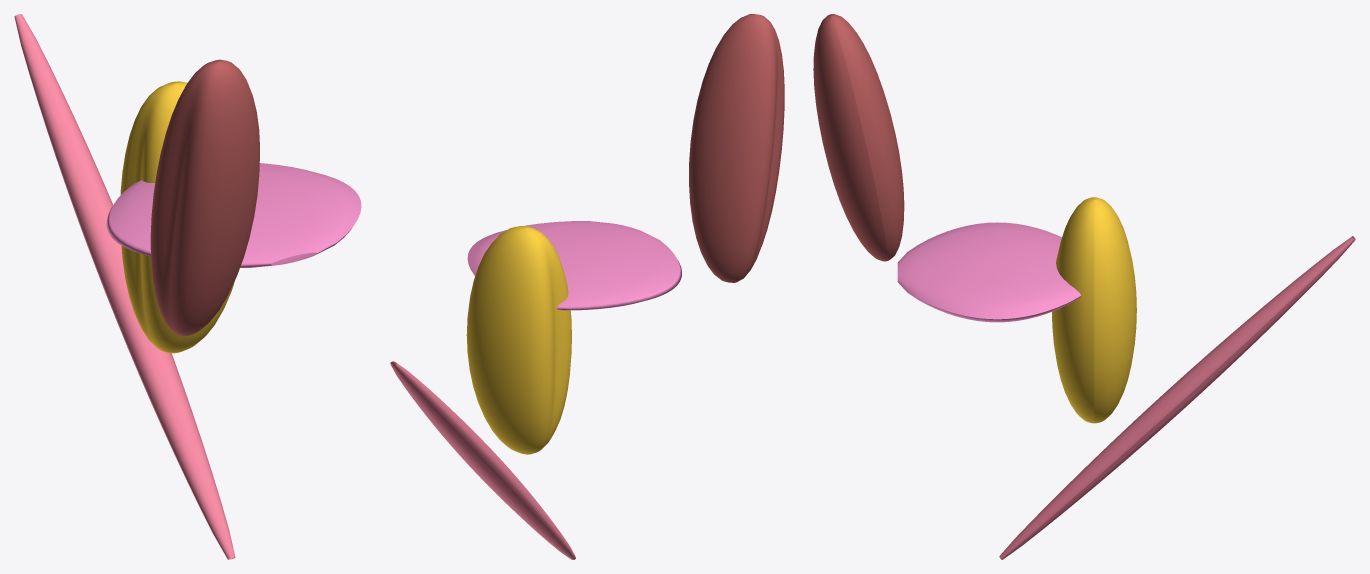
The model's file is urogenital.glb.
The picture shows the model from 3 angles, left to right: view 1: azimuth 30°, elevation 25°; view 2: azimuth 150°, elevation 25°; view 3: azimuth 270°, elevation 25°; orthographic projection. The views are drawn at different scales.
Visible parts, largest first — view 1: Mesh_Camelid_Ren, Mesh_Camelid_Penis, Mesh_Camelid_Uterus, Mesh_Camelid_VesicaUrinaria; view 2: Mesh_Camelid_Ren, Mesh_Camelid_VesicaUrinaria, Mesh_Camelid_Uterus, Mesh_Camelid_Penis; view 3: Mesh_Camelid_Ren, Mesh_Camelid_VesicaUrinaria, Mesh_Camelid_Uterus, Mesh_Camelid_Penis.
Boxes of the visible parts, bbox=[...] form: Mesh_Camelid_Ren: bbox=[150, 59, 259, 336]; Mesh_Camelid_Penis: bbox=[14, 14, 235, 559]; Mesh_Camelid_Uterus: bbox=[106, 163, 361, 267]; Mesh_Camelid_VesicaUrinaria: bbox=[120, 81, 234, 353]; Mesh_Camelid_Ren: bbox=[689, 14, 784, 282]; Mesh_Camelid_VesicaUrinaria: bbox=[466, 226, 571, 454]; Mesh_Camelid_Uterus: bbox=[467, 221, 681, 310]; Mesh_Camelid_Penis: bbox=[390, 361, 575, 559]; Mesh_Camelid_Ren: bbox=[813, 14, 904, 261]; Mesh_Camelid_VesicaUrinaria: bbox=[1052, 197, 1136, 423]; Mesh_Camelid_Uterus: bbox=[897, 222, 1081, 322]; Mesh_Camelid_Penis: bbox=[999, 236, 1355, 559].
Bounding box in the file's own units: 0.1868 × 0.3955 × 0.3912.
